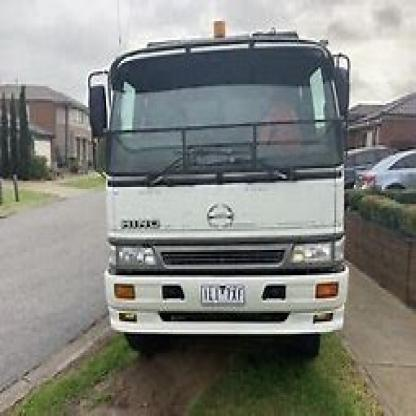dump_truck: (86, 25, 359, 359)
